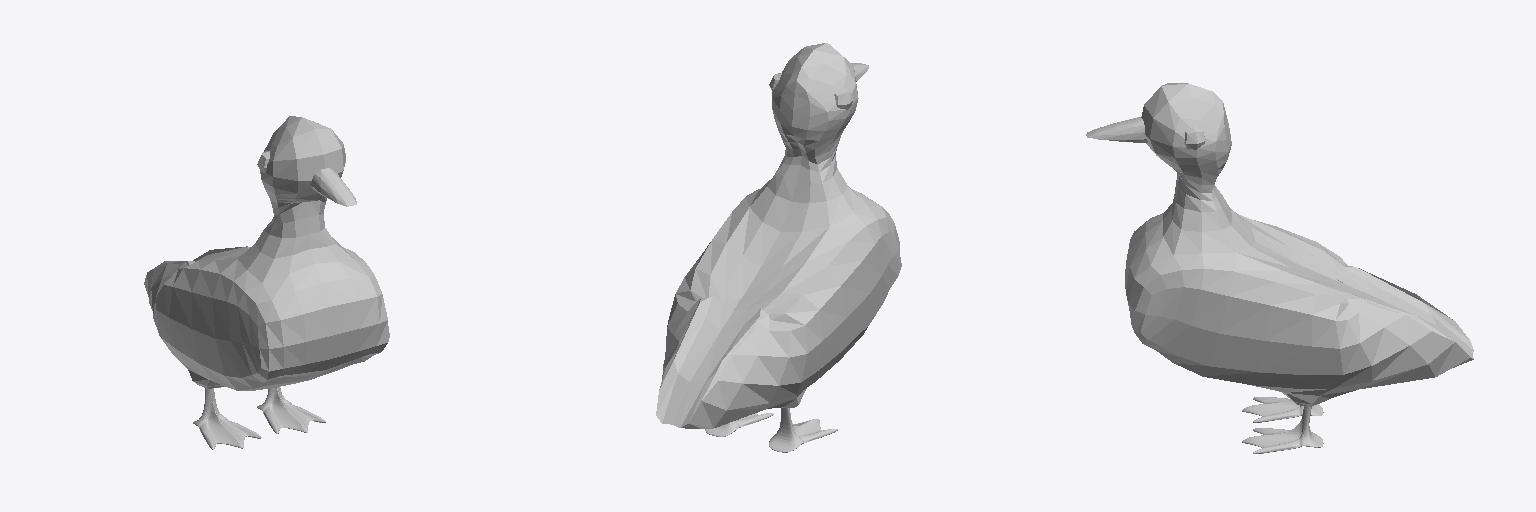
Rendered from Duck.obj.
The picture shows the model from 3 angles: view 1: azimuth 30°, elevation 25°; view 2: azimuth 150°, elevation 25°; view 3: azimuth 270°, elevation 25°; orthographic projection.
Visible parts, largest first — view 1: Cube_Cube.001; view 2: Cube_Cube.001; view 3: Cube_Cube.001.
Part boxes in pixels (x1,y1,x2,y2): Cube_Cube.001: (144, 116, 389, 449); Cube_Cube.001: (656, 43, 901, 452); Cube_Cube.001: (1086, 83, 1473, 453).
Bounding box in the file's own units: 2.05 × 4.74 × 4.83.